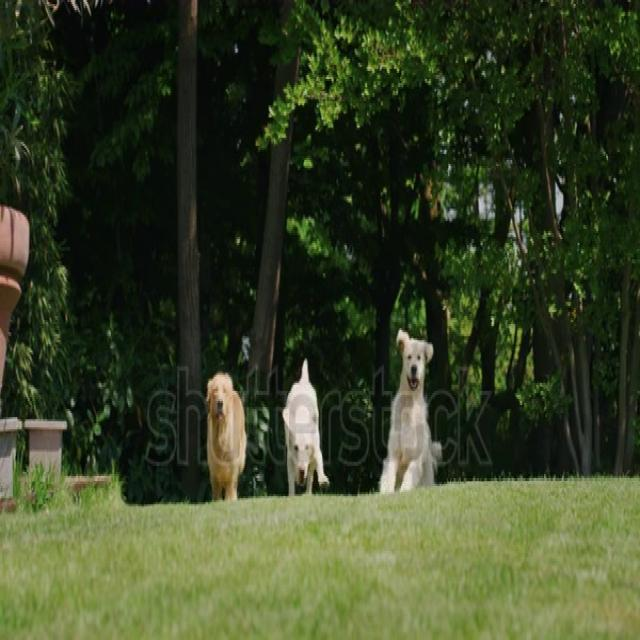injured-animals: (280, 356, 348, 533)
normal_animals: (374, 324, 445, 498), (181, 378, 258, 533)
